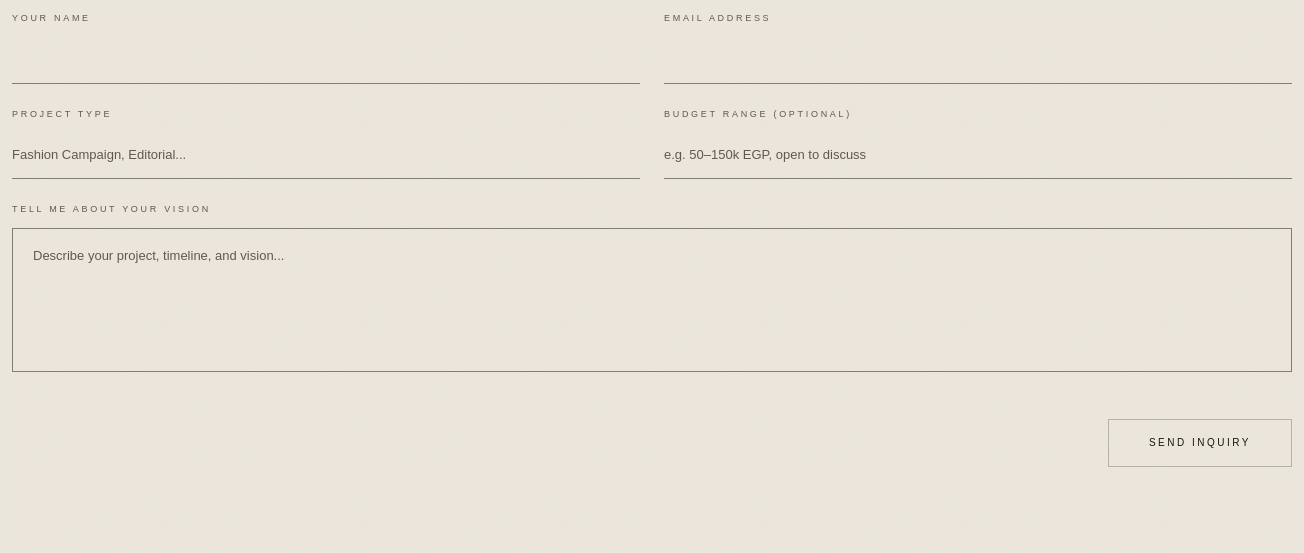
Scenario: Contact form › on a network failure, says so plainly and keeps what was typed
In the field labelled "Your Name": (326, 60) [12, 37, 640, 84], type "Jane"
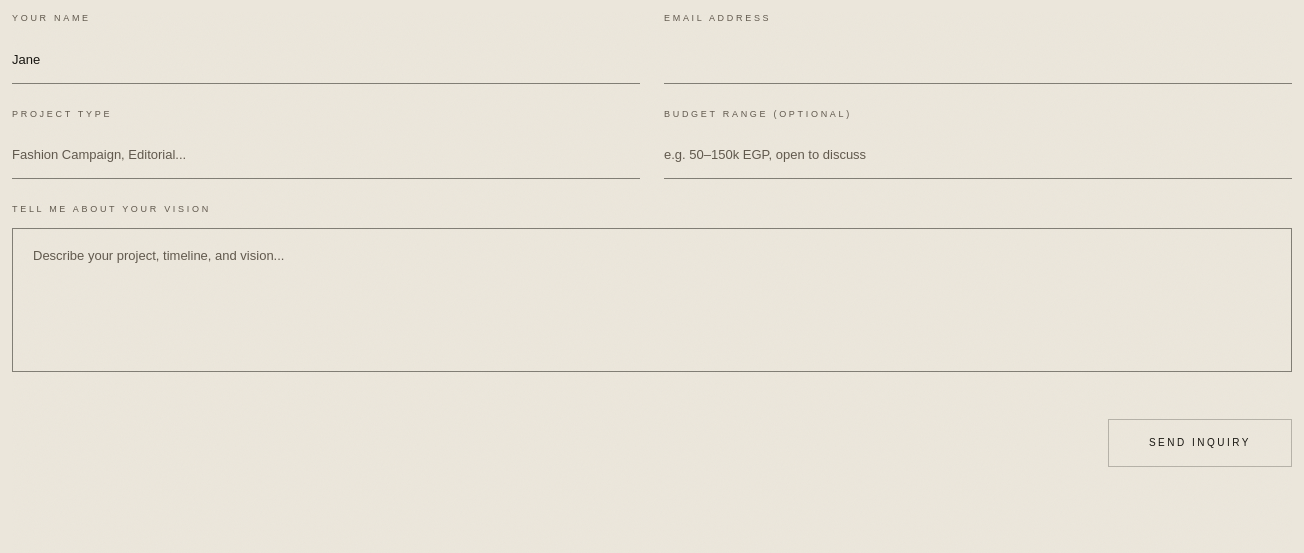
In the field labelled "Email Address": (978, 60) [664, 37, 1292, 84], type "jane@acme.com"
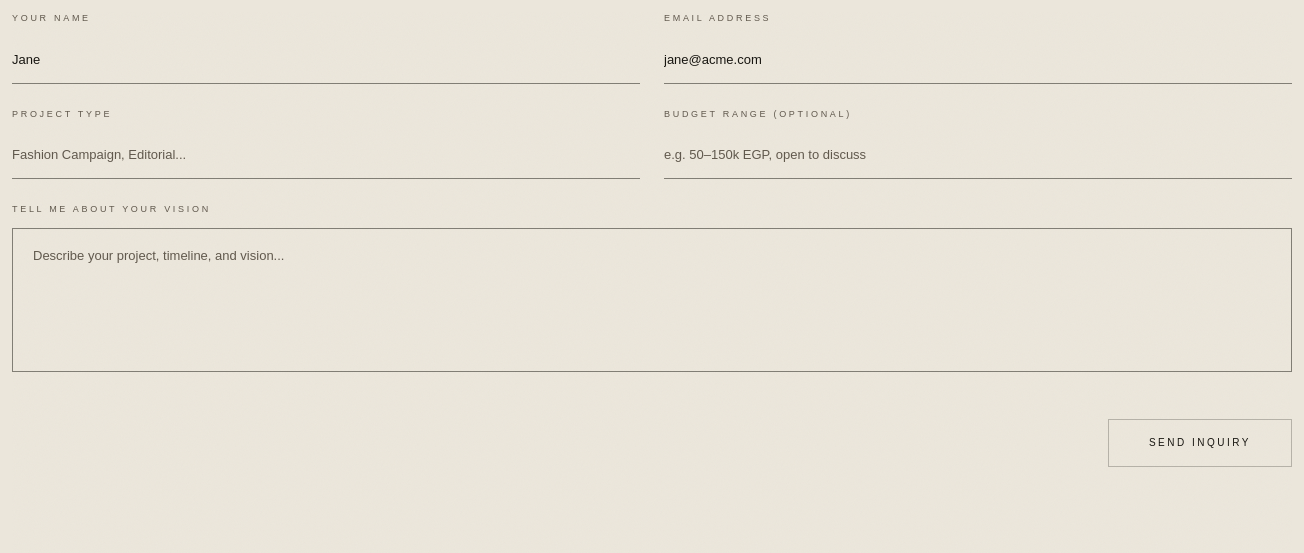
In the text box labelled "Tell me about your vision": (652, 300) [12, 228, 1292, 372], type "A fashion campaign"
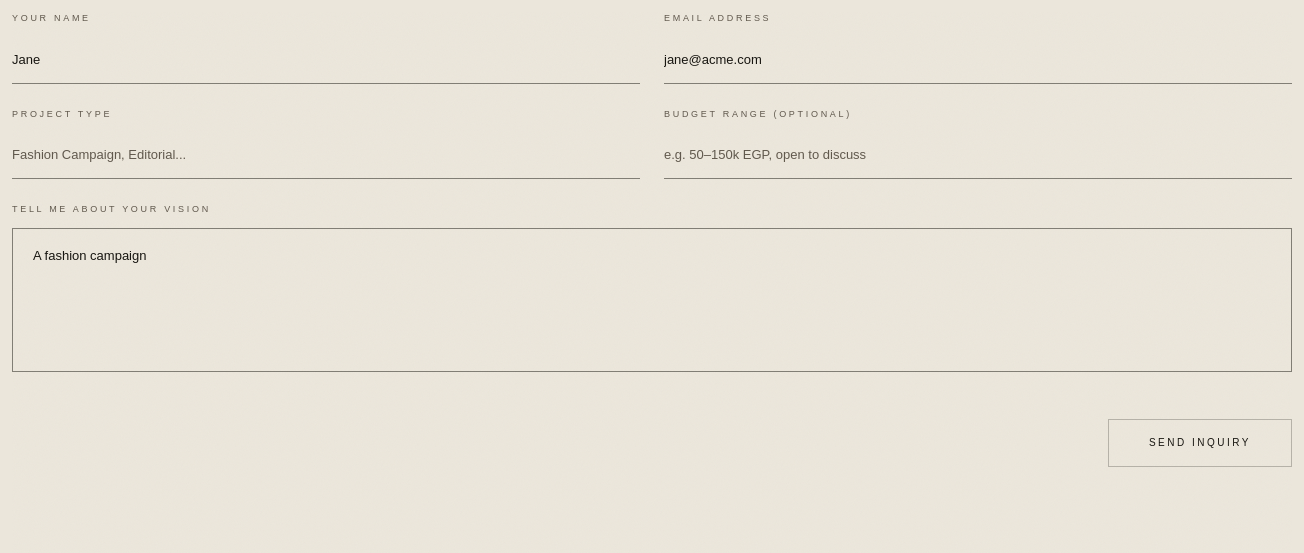
Click the button "Send Inquiry": (1200, 443) [1108, 419, 1292, 467]
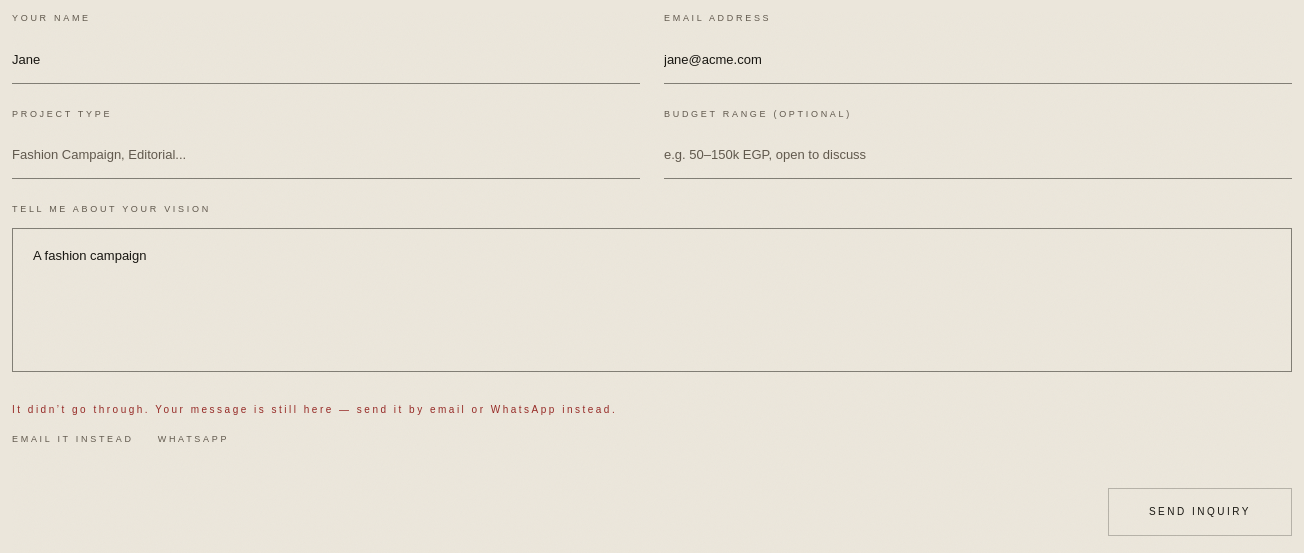
Now the text "didn.t go through" is shown, box [12, 404, 617, 415]
